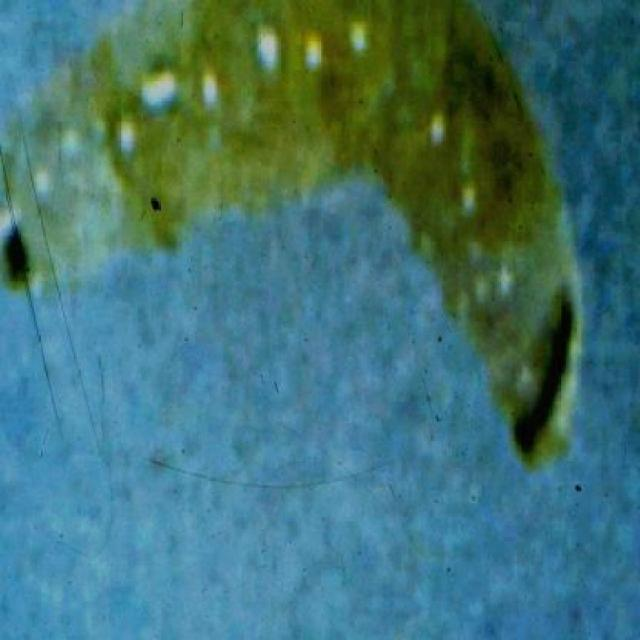whorl-maggot: (0, 2, 585, 469)
